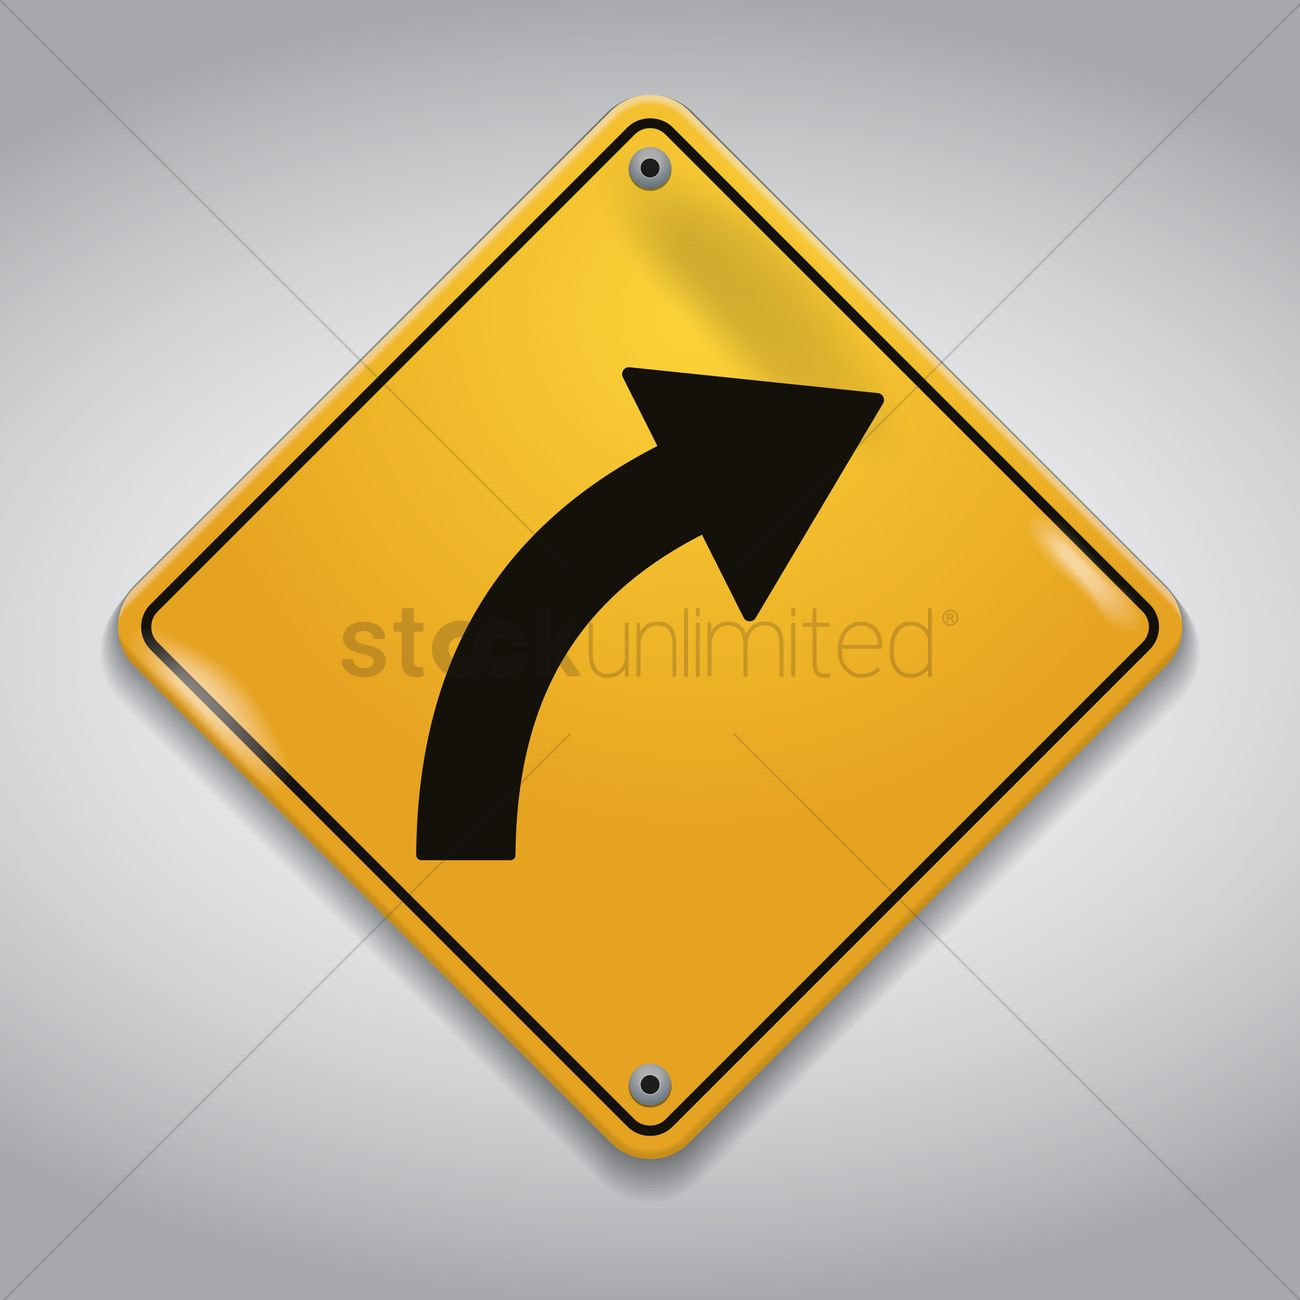right: (99, 85, 1196, 1183)
